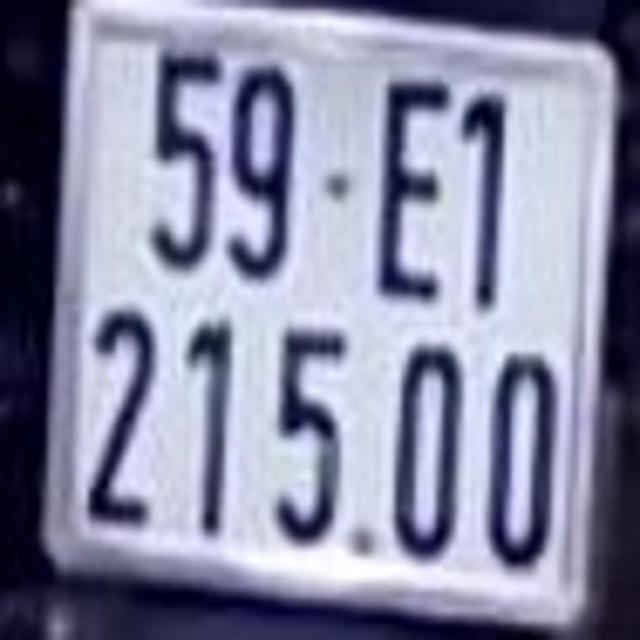0: (484, 340, 560, 572), (393, 333, 463, 558)
1: (173, 308, 240, 542), (459, 85, 517, 314)
2: (86, 299, 158, 528)
5: (271, 315, 349, 551), (147, 40, 223, 277), (228, 58, 299, 288)
E: (373, 71, 454, 304)
